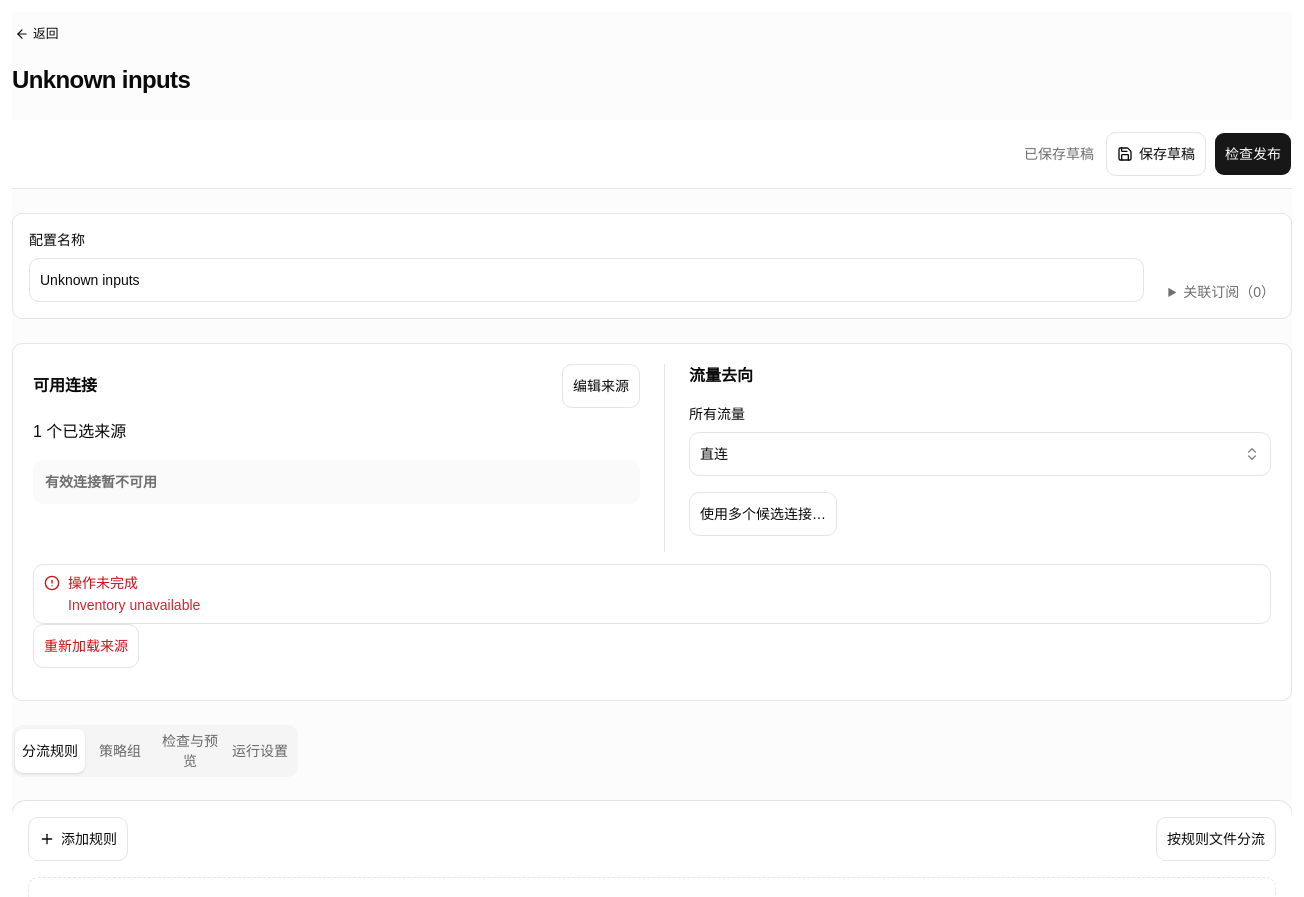
Scenario: does not diagnose a paused Source when its inventory read failed
Check: the button "重新加载来源" is shown, box [33,624,139,668]
Click the button "编辑来源". click: (601,386)
box: [562,364,640,408]
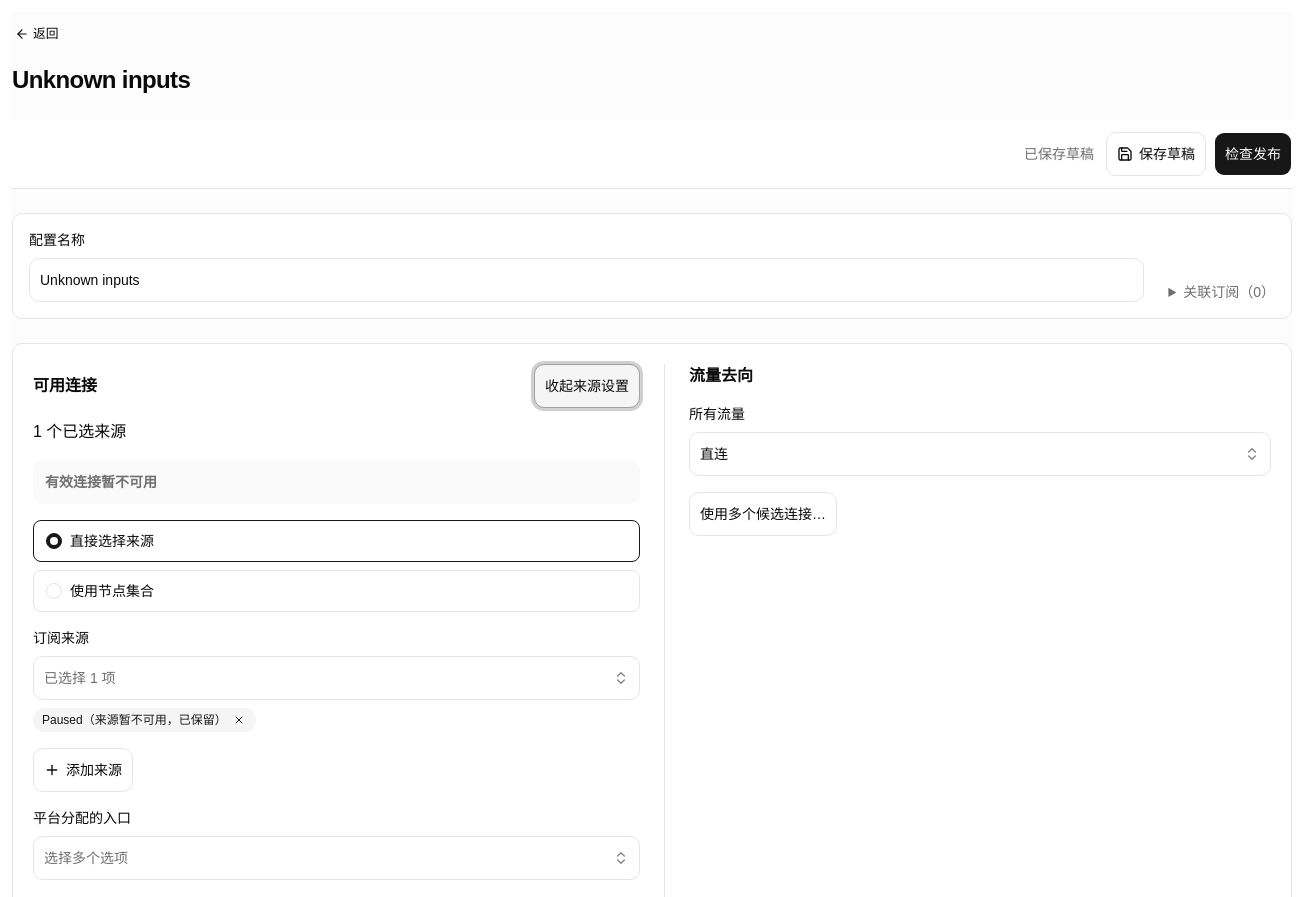
Check: the dropdown named "使用的订阅来源" is shown, box [33,656,640,700]
